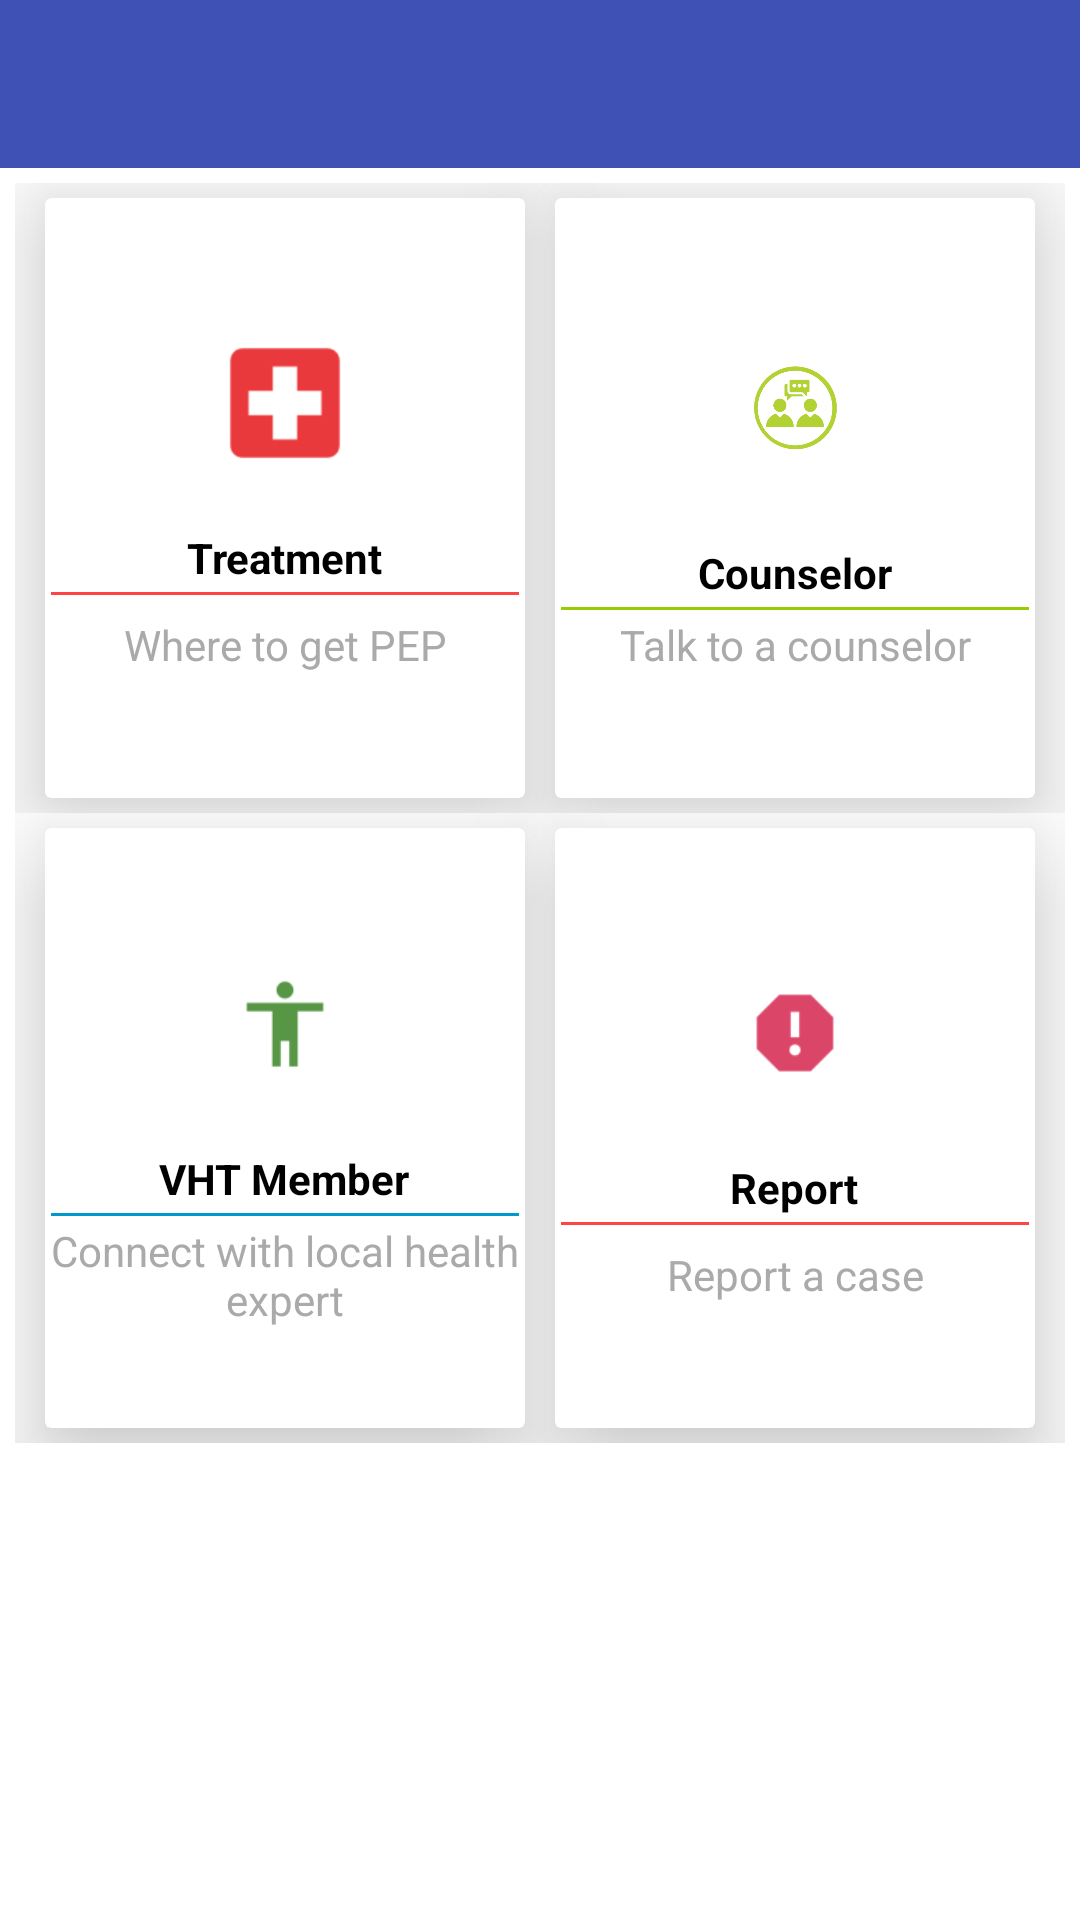

Where icons sit on this 1080 × 1920 app screen, as (x1, y1, x2, y2):
consellor: (754, 366, 837, 449)
